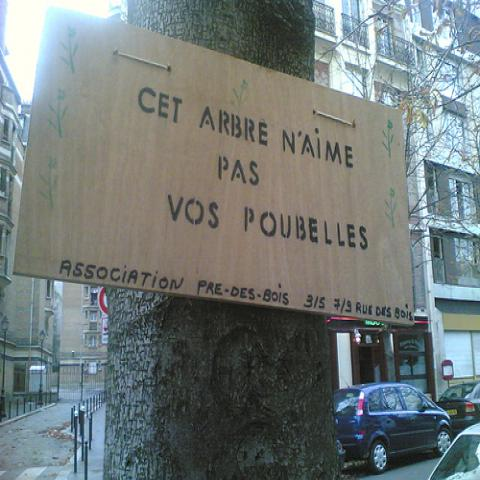car: (332, 382, 454, 475), (428, 422, 479, 479), (434, 379, 479, 440)
